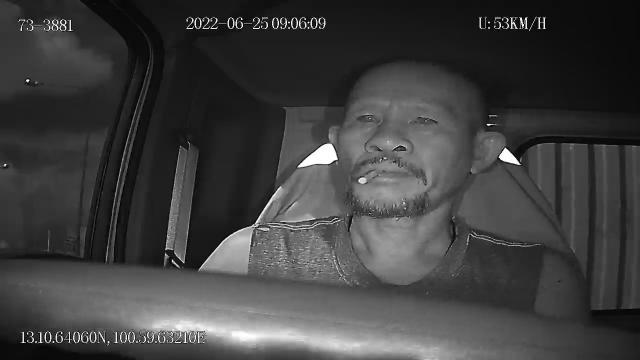SafeDriving: (404, 106, 444, 133), (350, 106, 386, 132)
Smoking: (356, 170, 380, 184)
